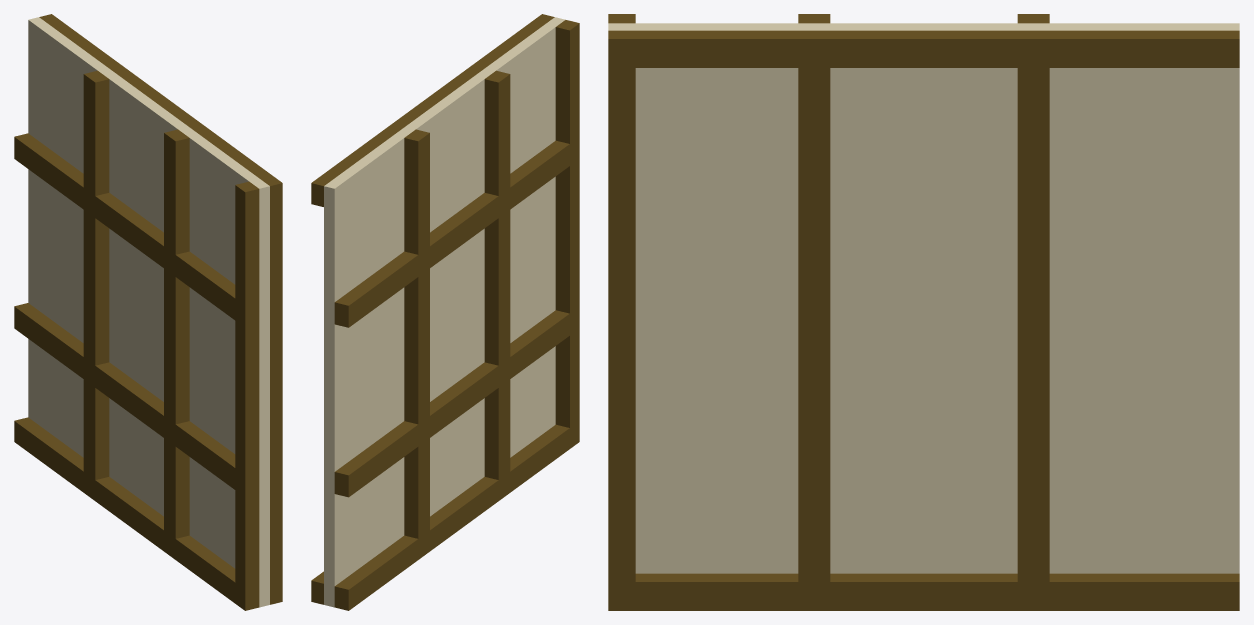
Rendered from Wall.fbx.
The picture shows the model from 3 angles, left to right: view 1: azimuth 30°, elevation 25°; view 2: azimuth 150°, elevation 25°; view 3: azimuth 270°, elevation 25°; orthographic projection. The views are drawn at different scales.
Parts seen in each view (by area): view 1: pCube120; view 2: pCube120; view 3: pCube120.
Boxes of the visible parts, x1,y1,x2,y2 form: pCube120: [14, 14, 282, 610]; pCube120: [311, 14, 579, 610]; pCube120: [608, 14, 1239, 610].
Bounding box in the file's own units: 0.2823 × 3 × 3.
